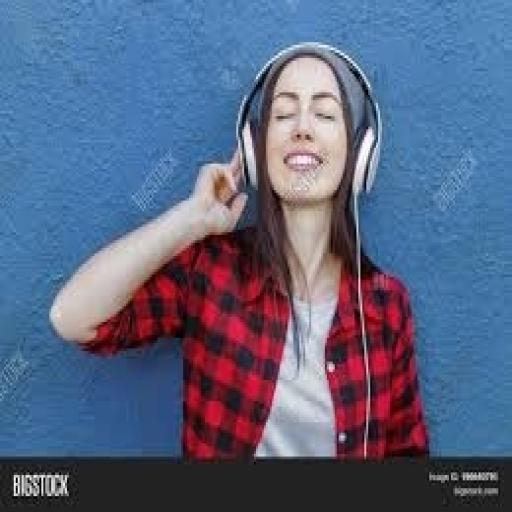listening_to_music: (47, 40, 433, 464)
